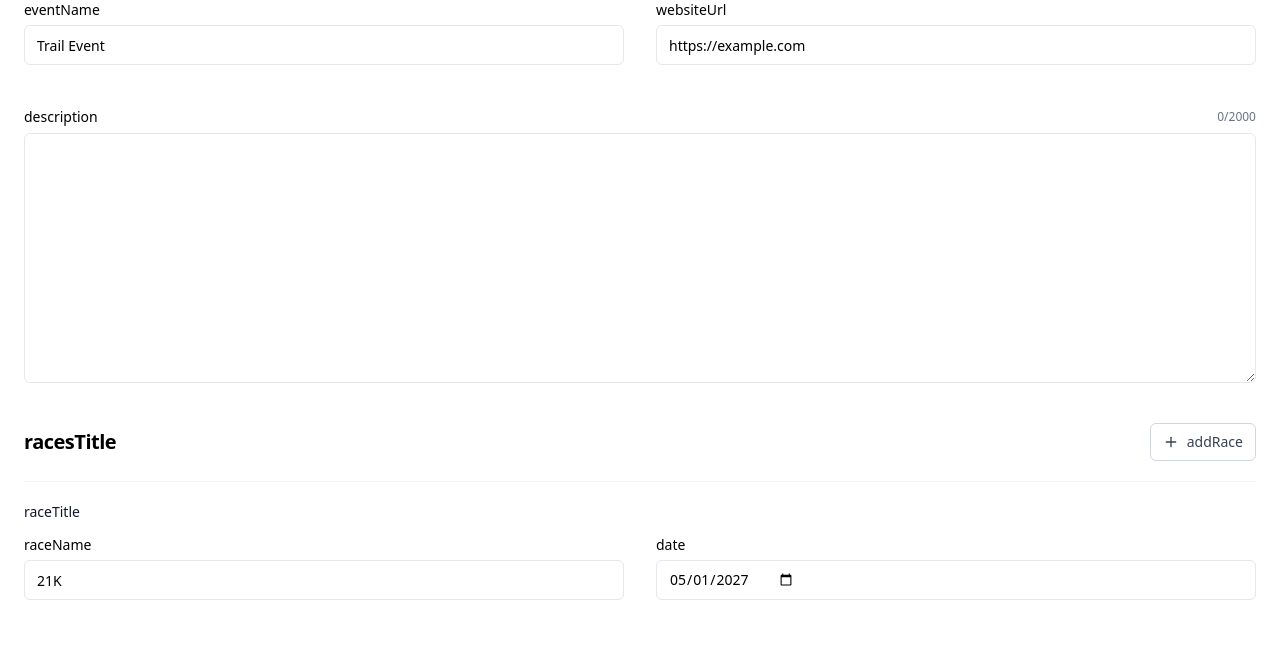
Test: EventForm race-track visibility › explains that newly added races must be saved before upload
Click the button "addRace".
click(1203, 442)  # box [1150,423,1256,461]
(page scrolled)
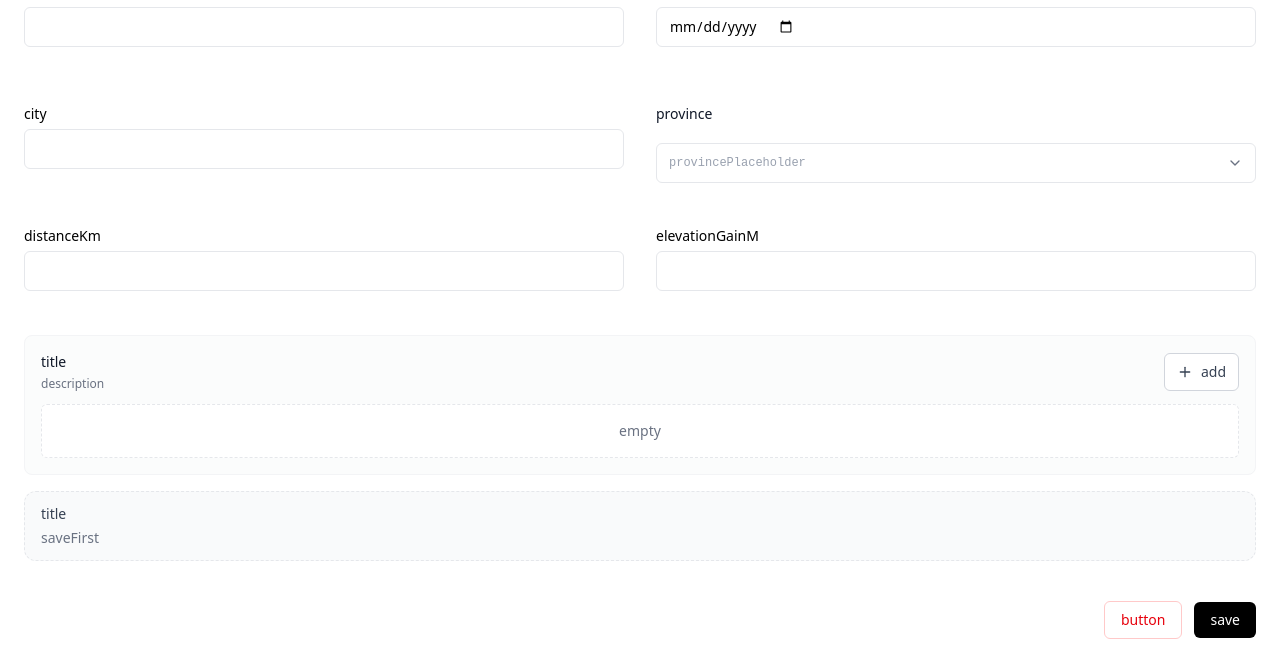
Check: the text "saveFirst" is shown, box [41,528,99,547]
